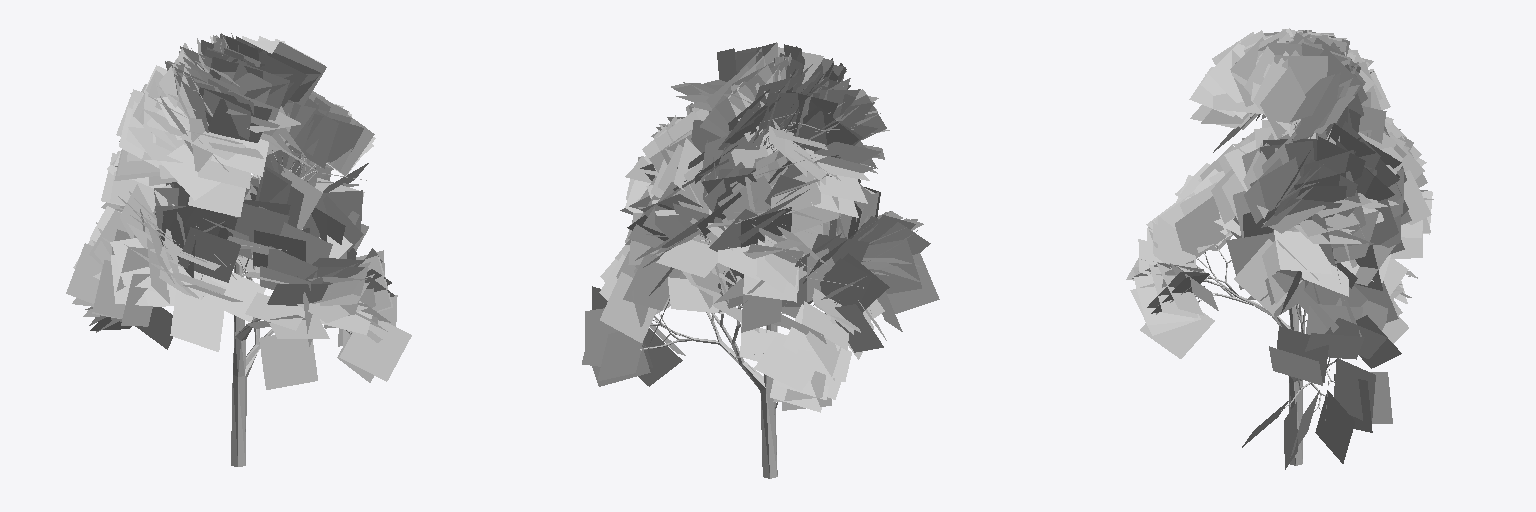
The model's file is Tree01.obj.
3 renders of one model, left to right at view 1: azimuth 30°, elevation 25°; view 2: azimuth 150°, elevation 25°; view 3: azimuth 270°, elevation 25°, orthographic.
Parts seen in each view (by area): view 1: Tree3DMesh; view 2: Tree3DMesh; view 3: Tree3DMesh.
Part boxes in pixels (bbox=[...]): Tree3DMesh: bbox=[66, 33, 411, 466]; Tree3DMesh: bbox=[582, 42, 939, 478]; Tree3DMesh: bbox=[1126, 28, 1433, 469].
Bounding box in the file's own units: 9672 × 12708 × 8404.